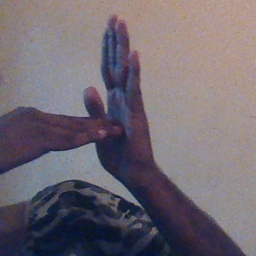Z: (34, 16, 157, 181)
